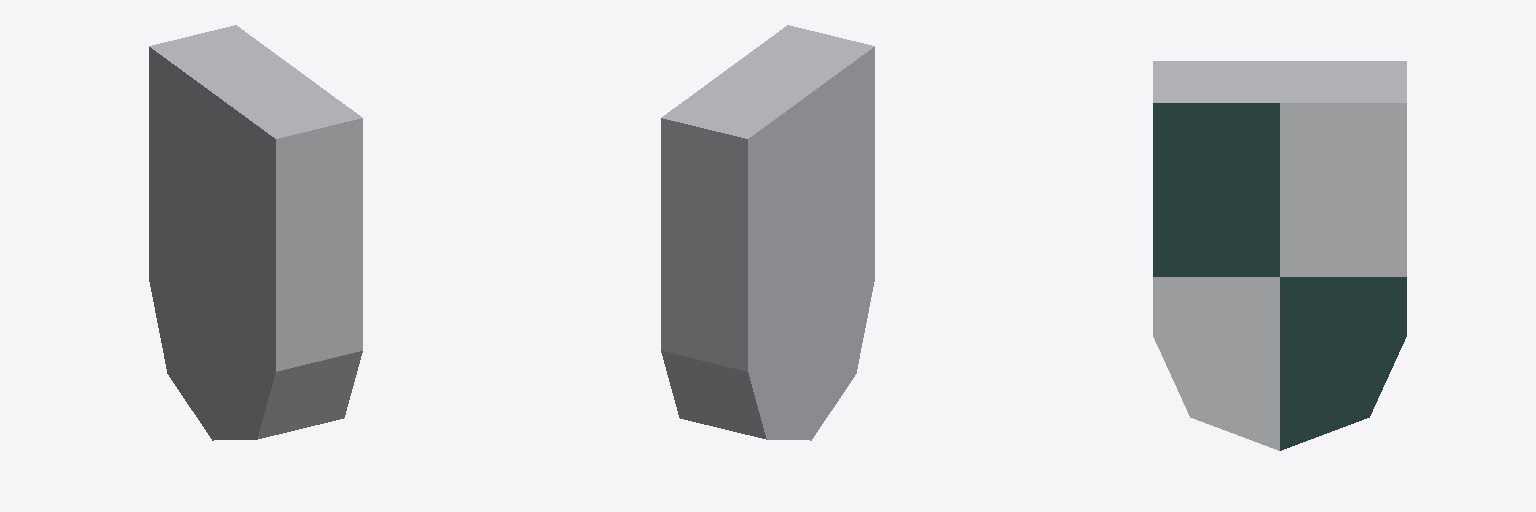
The model's file is Shield_Green_01.obj.
The picture shows the model from 3 angles: view 1: azimuth 30°, elevation 25°; view 2: azimuth 150°, elevation 25°; view 3: azimuth 270°, elevation 25°; orthographic projection.
Visible parts, largest first — view 1: Mesh1 Shield_Green Model; view 2: Mesh1 Shield_Green Model; view 3: Mesh1 Shield_Green Model.
Part boxes in pixels (left/top/right/bottom): Mesh1 Shield_Green Model: left=149, top=25, right=362, bottom=440; Mesh1 Shield_Green Model: left=661, top=25, right=874, bottom=440; Mesh1 Shield_Green Model: left=1153, top=61, right=1406, bottom=450.
Bounding box in the file's own units: 0.2 × 0.7625 × 0.5047.